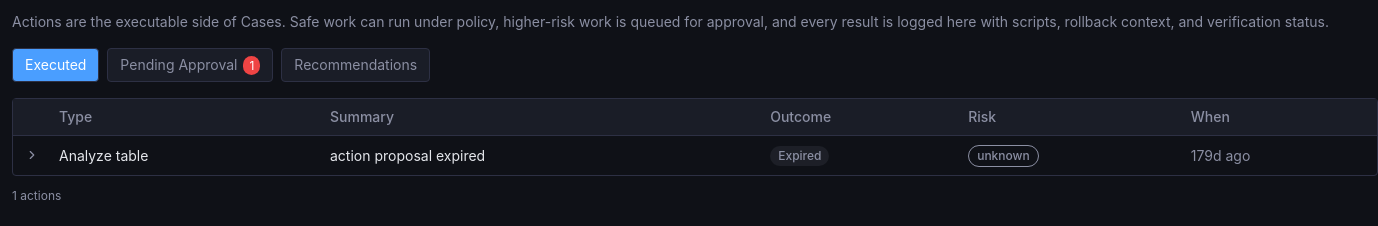
Test: Actions › disables approval for deferred pending actions
The image size is (1378, 226).
Click the button with test id "actions-tab-pending" at [190, 65], box left=107, top=48, right=273, bottom=82
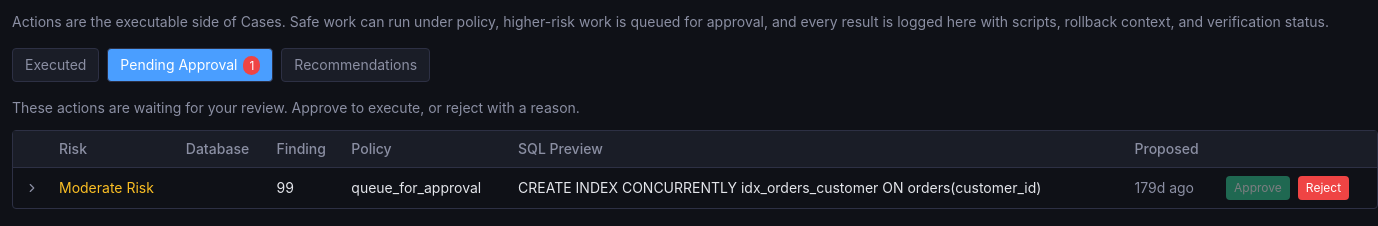
Check: the button with test id "approve-button" is disabled, box left=1226, top=176, right=1290, bottom=200
